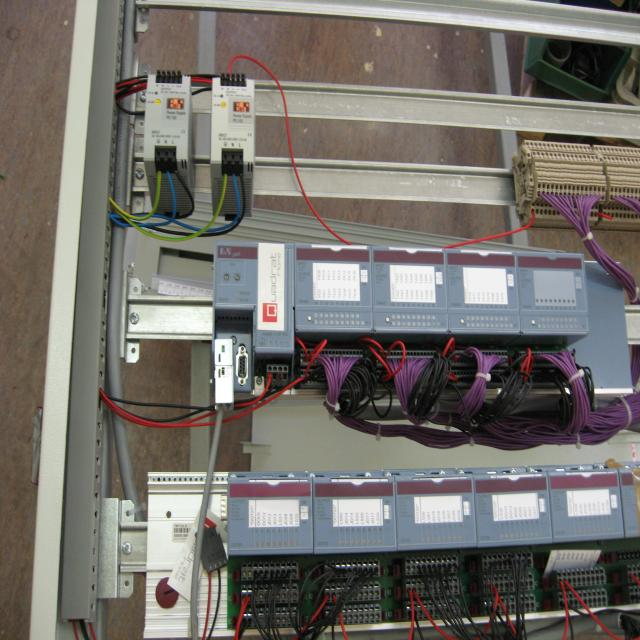SPS_System_Steuerungskomponente: (215, 240, 296, 355), (296, 242, 373, 332), (312, 474, 397, 554), (371, 246, 449, 333), (227, 478, 314, 556), (445, 248, 521, 334), (395, 472, 478, 550), (473, 472, 552, 547), (517, 253, 590, 334), (547, 469, 625, 543)
netzteile: (143, 73, 191, 163), (210, 74, 255, 163)
